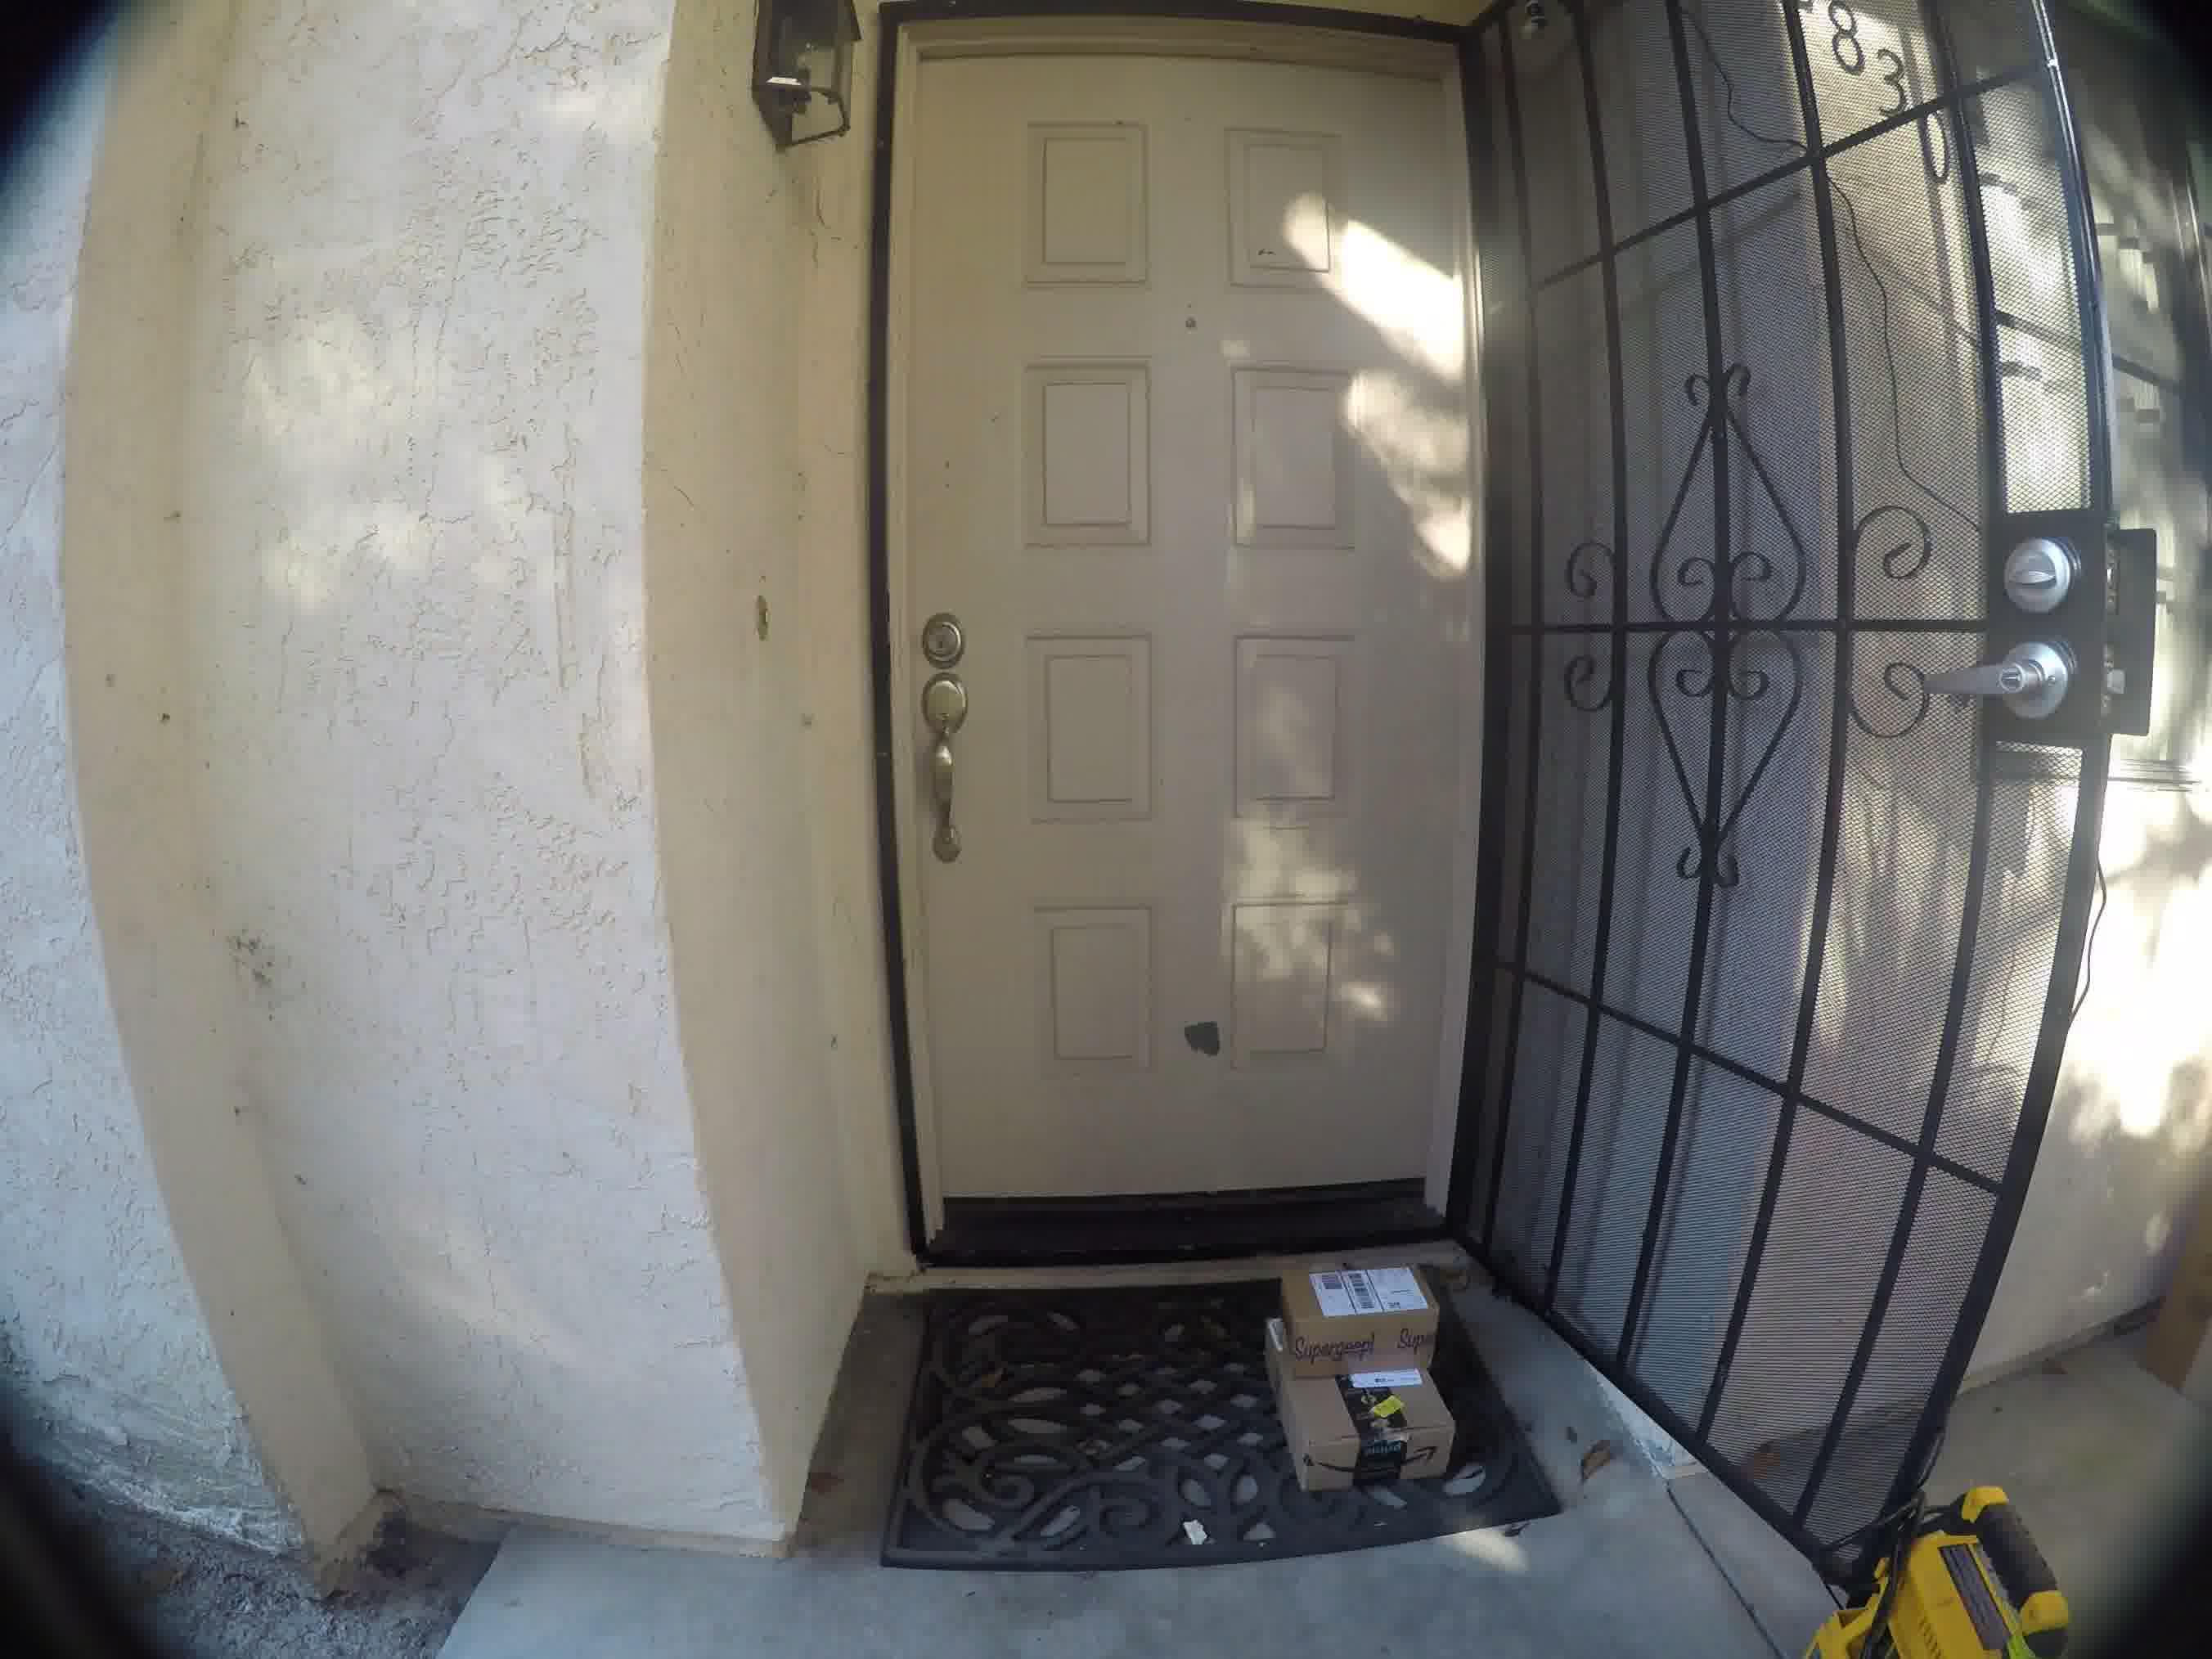box: (1245, 1358, 1470, 1486), (1264, 1249, 1451, 1358)
